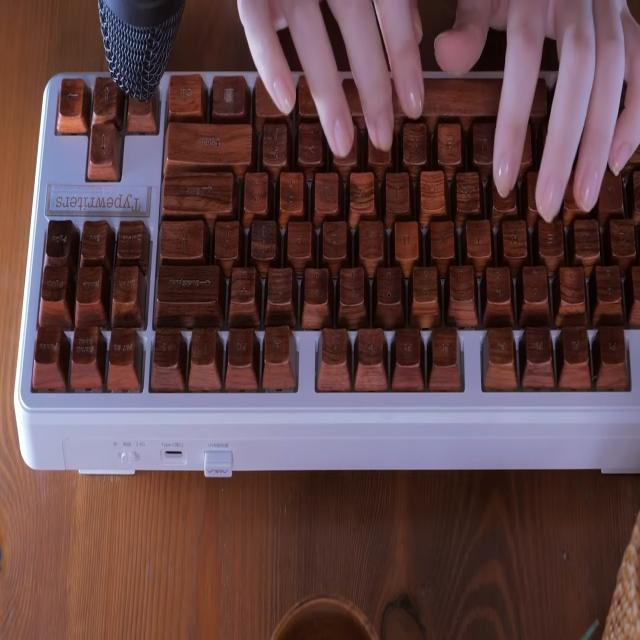keyboard-with-hands: (21, 78, 640, 409)
